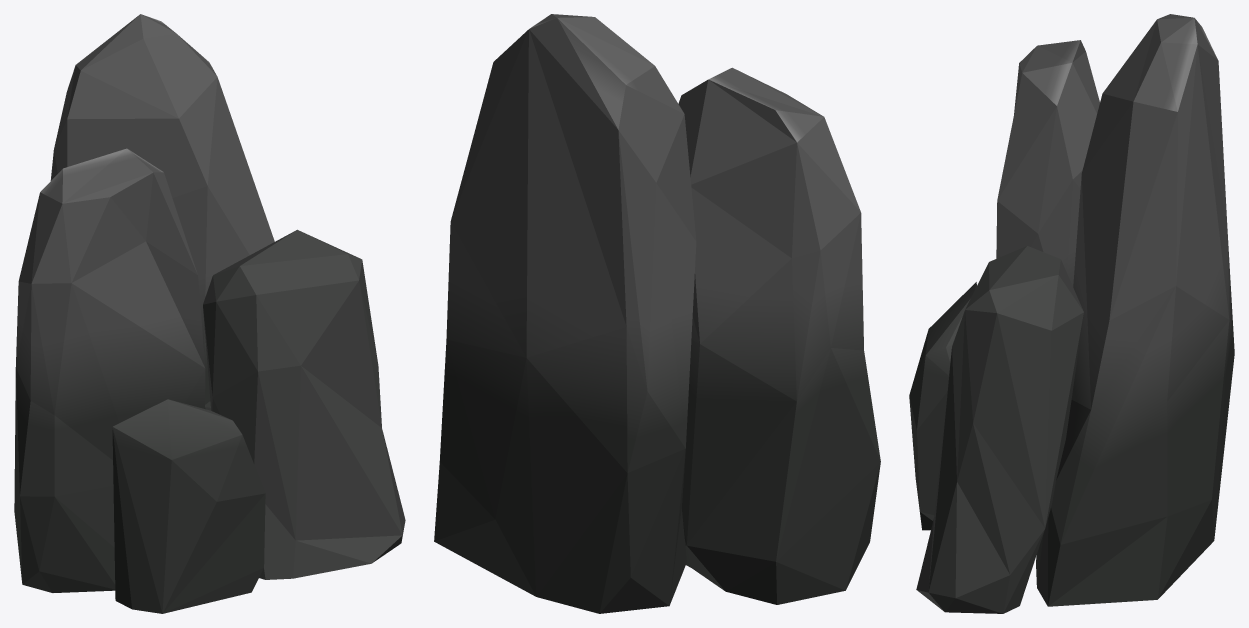
The model's file is rock2.fbx.
3 renders of one model, left to right at view 1: azimuth 30°, elevation 25°; view 2: azimuth 150°, elevation 25°; view 3: azimuth 270°, elevation 25°, orthographic. The views are drawn at different scales.
Parts seen in each view (by area): view 1: rock2_LOD0; view 2: rock2_LOD0; view 3: rock2_LOD0.
Boxes of the visible parts, box(x1,y1,x2,y2) form: rock2_LOD0: box(14, 14, 405, 613); rock2_LOD0: box(434, 14, 880, 613); rock2_LOD0: box(909, 14, 1234, 613).
Size of what is drawn, in the model's own units: 4.59 by 6.04 by 3.42.
